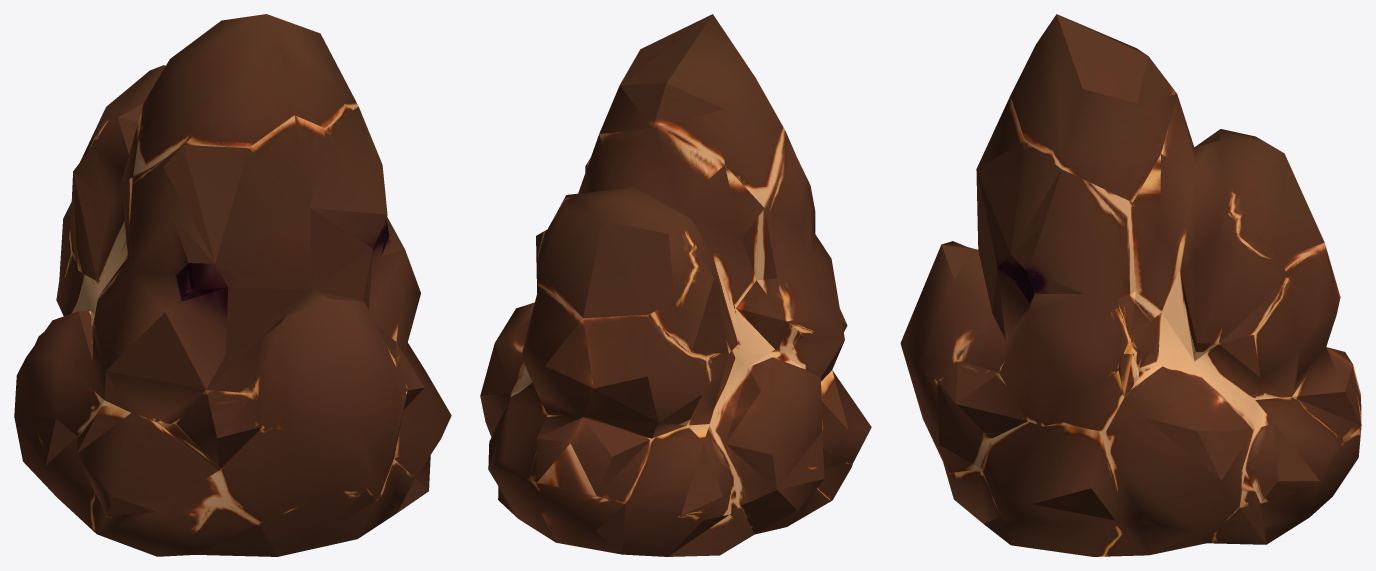
The model's file is mine.fbx.
The picture shows the model from 3 angles, left to right: view 1: azimuth 30°, elevation 25°; view 2: azimuth 150°, elevation 25°; view 3: azimuth 270°, elevation 25°; orthographic projection. The views are drawn at different scales.
Parts seen in each view (by area): view 1: tripo_node_b7c6e6bc; view 2: tripo_node_b7c6e6bc; view 3: tripo_node_b7c6e6bc.
Part boxes in pixels (left/top/right/bottom): tripo_node_b7c6e6bc: left=14, top=14, right=451, bottom=556; tripo_node_b7c6e6bc: left=480, top=14, right=871, bottom=556; tripo_node_b7c6e6bc: left=900, top=14, right=1361, bottom=556.
Bounding box in the file's own units: 74.61 × 101 × 89.64.
